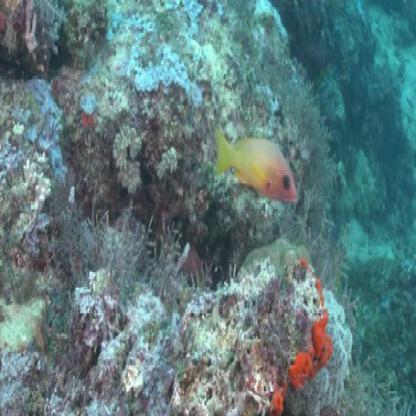snapper: (208, 114, 302, 214)
